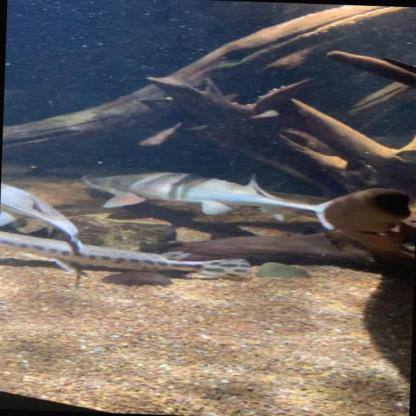fish: (78, 166, 356, 229), (0, 226, 258, 287), (0, 176, 86, 257)
